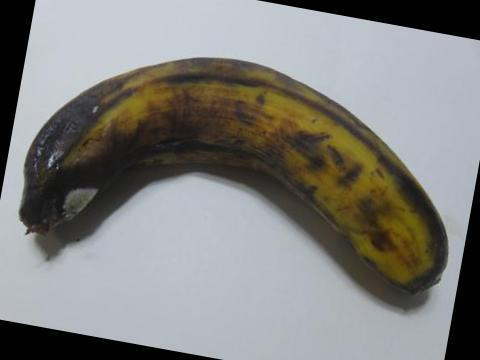overripe: (14, 44, 452, 300)
rotten: (6, 97, 130, 240)
